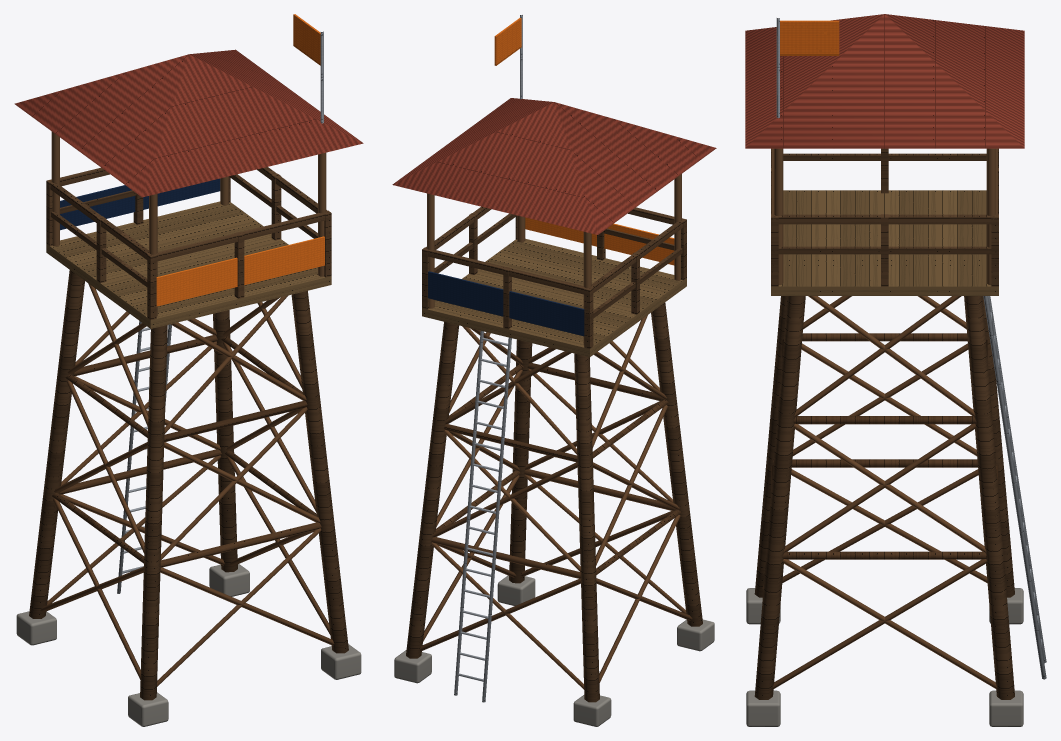
The model's file is torre_de_observacao.glb.
3 renders of one model, left to right at view 1: azimuth 30°, elevation 25°; view 2: azimuth 150°, elevation 25°; view 3: azimuth 270°, elevation 25°, orthographic. The views are drawn at different scales.
Visible parts, largest first — view 1: torre_de_observacao, torre_de_observacao_liso; view 2: torre_de_observacao, torre_de_observacao_liso; view 3: torre_de_observacao, torre_de_observacao_liso.
Boxes of the visible parts, x1=… form: torre_de_observacao: x1=14, y1=14, x2=363, y2=700; torre_de_observacao_liso: x1=16, y1=131, x2=361, y2=726; torre_de_observacao: x1=392, y1=15, x2=716, y2=702; torre_de_observacao_liso: x1=394, y1=174, x2=714, y2=726; torre_de_observacao: x1=745, y1=14, x2=1046, y2=699; torre_de_observacao_liso: x1=746, y1=148, x2=1042, y2=726.
Size of the model in its own units: 3.68 by 10.12 by 3.97.
5 materials, 4 textured.
